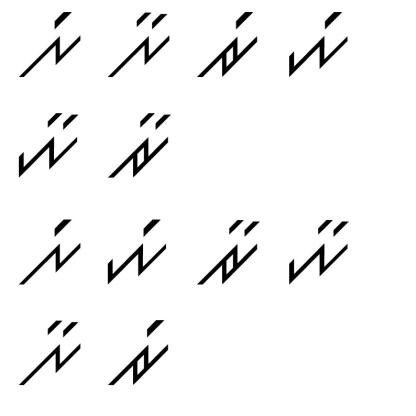lan: (13, 313, 88, 389), (103, 7, 176, 82)
lang: (9, 8, 85, 82), (14, 217, 87, 287)
ran: (106, 106, 182, 184), (194, 212, 262, 296)
rang: (106, 310, 178, 386), (198, 8, 266, 78)
yan: (282, 213, 364, 287), (12, 105, 85, 183)
yang: (101, 216, 173, 290), (281, 4, 351, 78)
